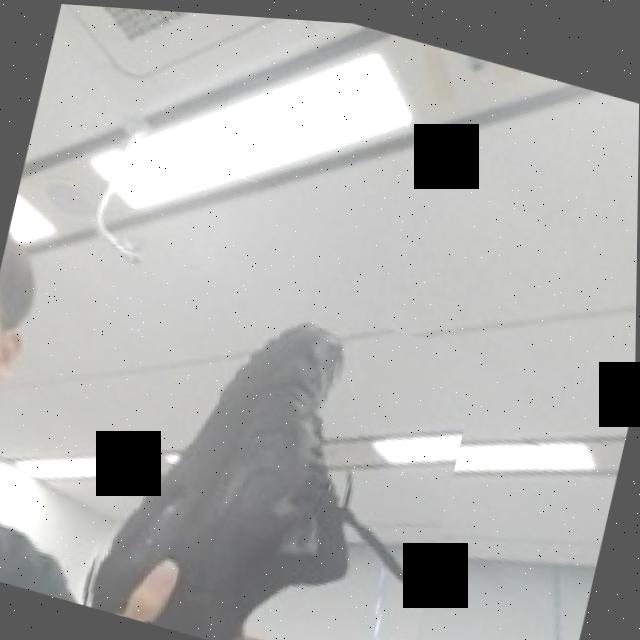shoe: (79, 258, 482, 640)
